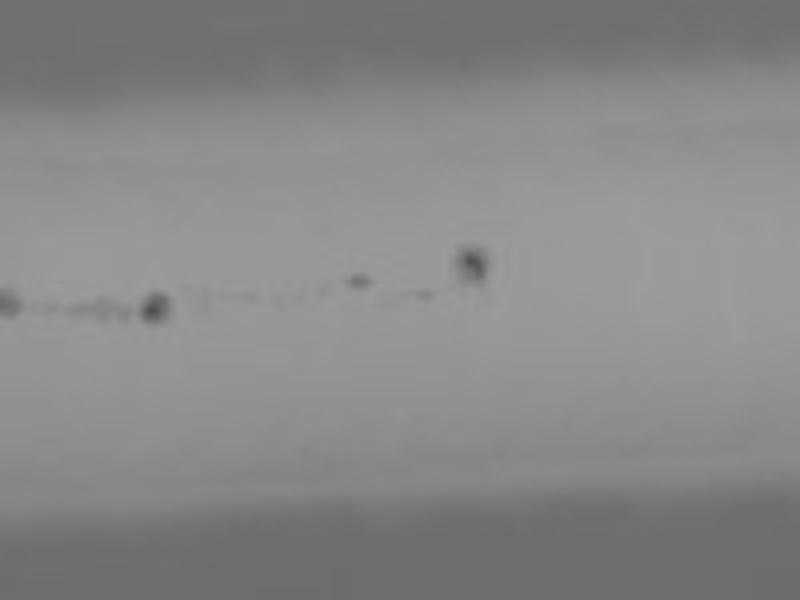defect: (66, 296, 132, 327), (451, 241, 491, 289), (139, 289, 170, 326), (2, 285, 23, 318), (346, 269, 368, 290), (411, 287, 437, 301)
